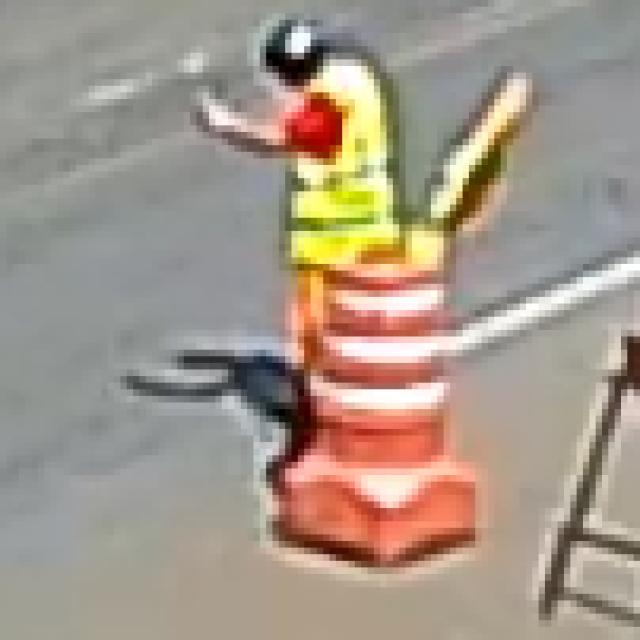big_cone: (295, 247, 453, 551)
